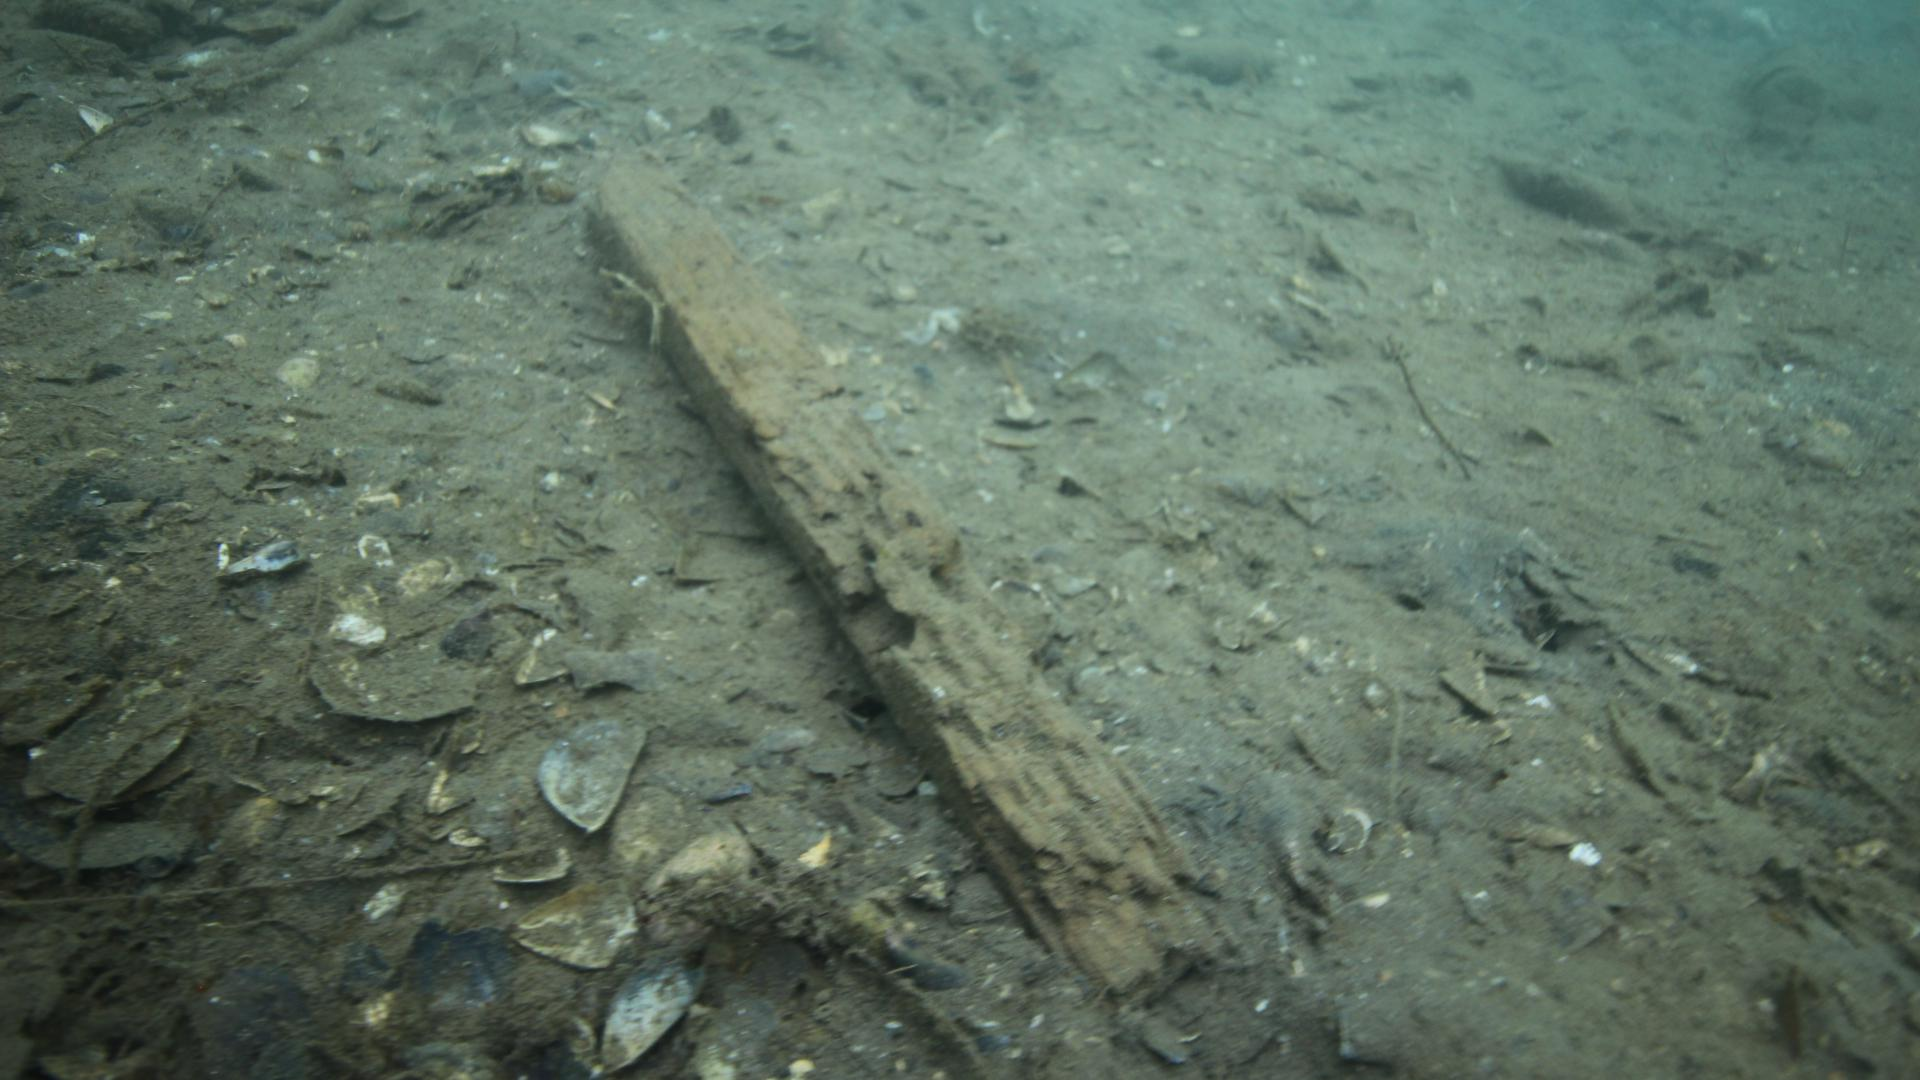wood: (583, 165, 1234, 1007)
